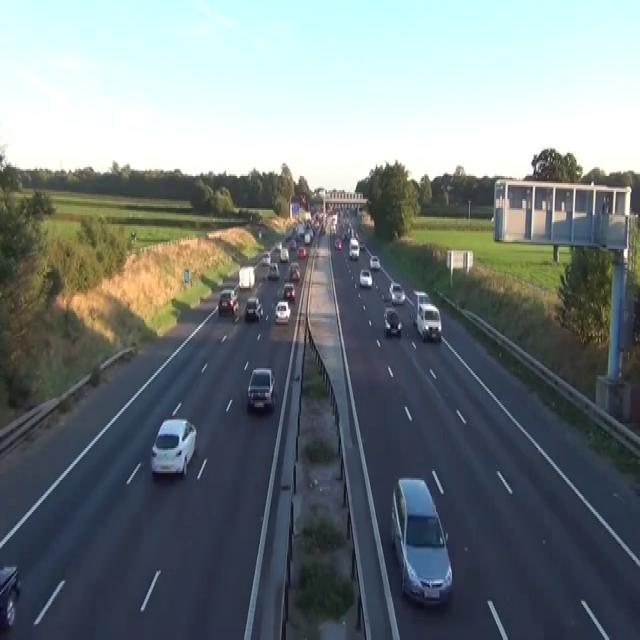Car: (390, 476, 452, 606), (150, 418, 197, 476), (0, 564, 20, 630), (247, 366, 276, 411), (415, 303, 442, 342), (218, 288, 238, 315), (383, 308, 402, 336), (244, 295, 263, 322), (274, 300, 291, 324), (388, 281, 405, 304), (413, 290, 429, 308), (348, 238, 359, 260), (288, 261, 300, 281), (359, 268, 372, 286), (267, 261, 280, 279), (283, 282, 295, 298), (369, 254, 380, 268), (279, 247, 289, 261), (297, 245, 306, 258), (261, 252, 270, 265), (274, 240, 282, 251), (343, 229, 351, 240), (334, 238, 341, 249), (284, 233, 292, 242), (304, 233, 311, 243), (130, 229, 136, 240), (330, 222, 336, 233), (289, 240, 296, 249), (300, 194, 305, 206), (359, 240, 364, 249), (258, 228, 262, 238), (490, 215, 494, 222)
Truck: (238, 265, 255, 288)
